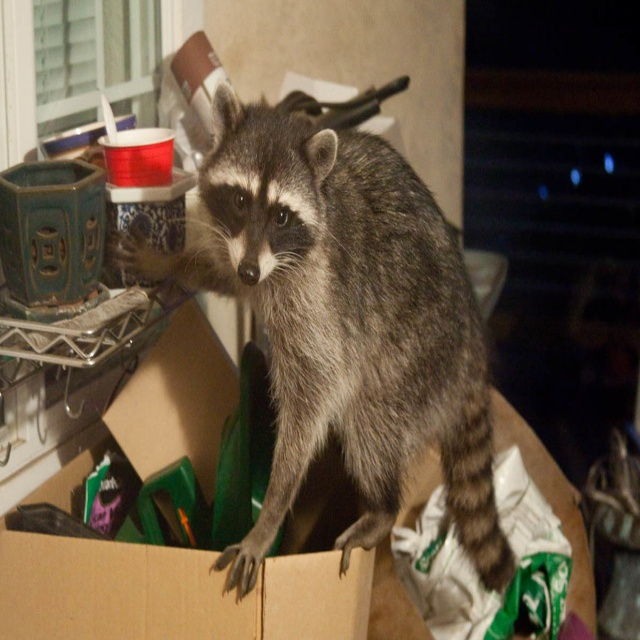Raccoon: (106, 77, 516, 598)
